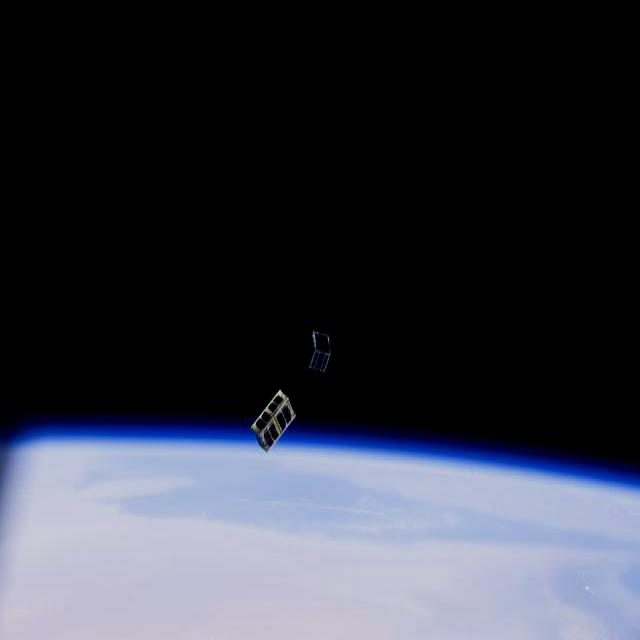satellite: (251, 391, 296, 452), (306, 331, 331, 373)
